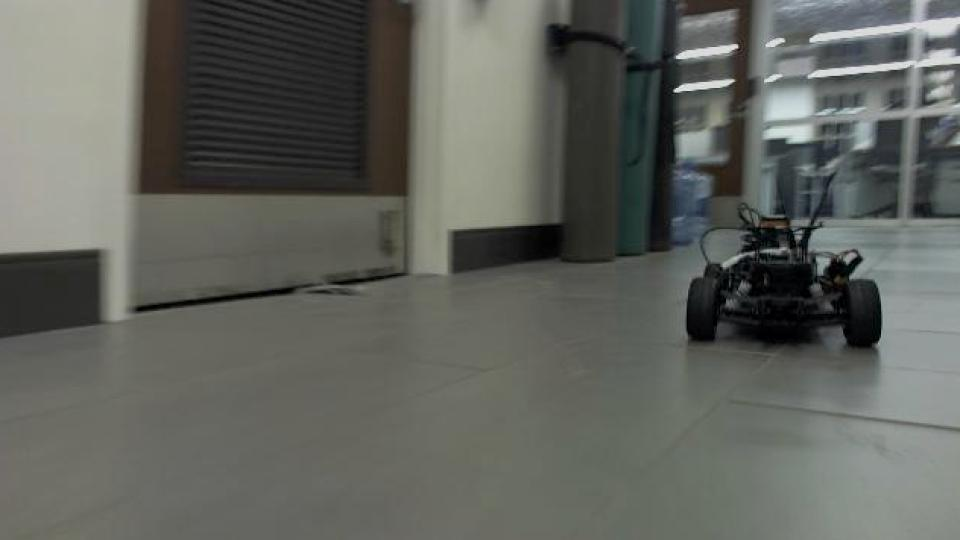car: (684, 161, 887, 350)
